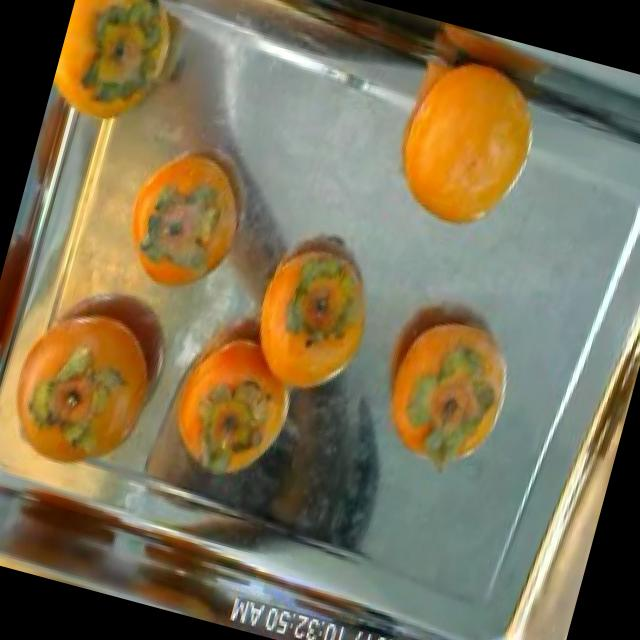Fruit: (364, 19, 570, 258), (142, 299, 322, 528), (350, 286, 534, 491), (230, 208, 401, 419), (108, 116, 272, 311)
